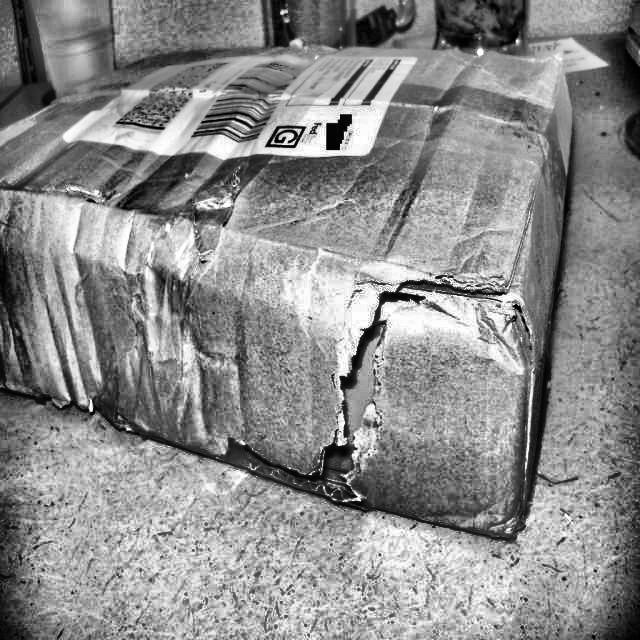box: (0, 35, 584, 566)
hole: (306, 278, 410, 510)
